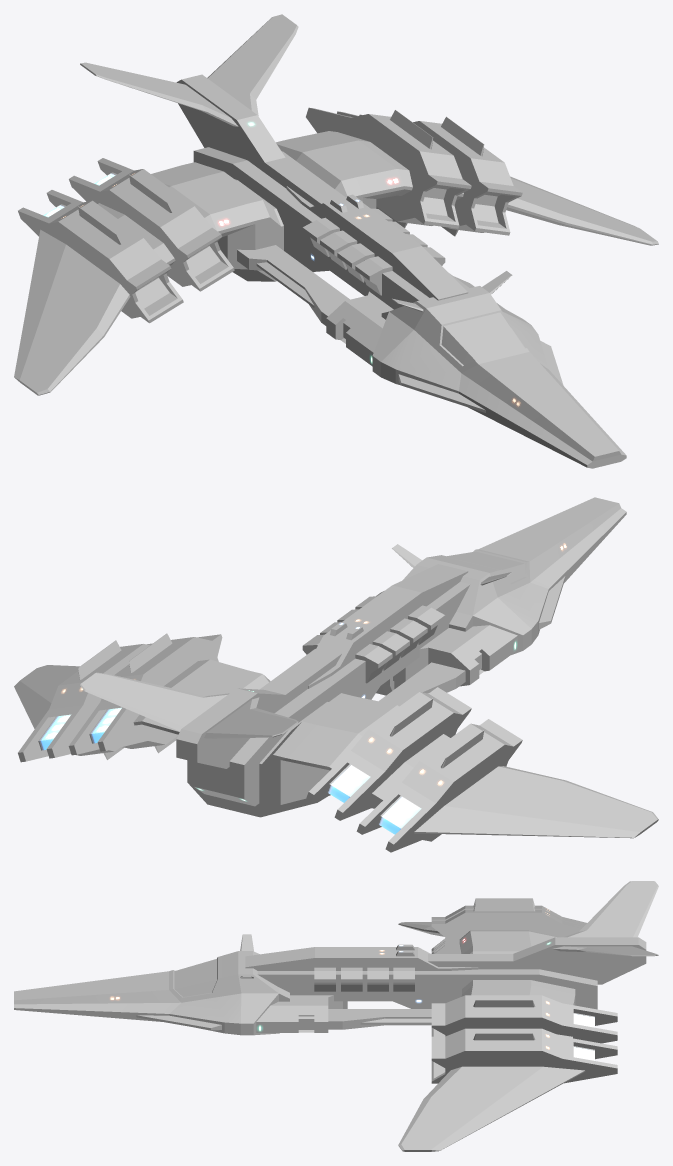
File: HeliconCorpFighterHF13Hull.fbx
3 views of the same model, one above another, from view 1: azimuth 30°, elevation 25°; view 2: azimuth 150°, elevation 25°; view 3: azimuth 270°, elevation 25° (orthographic). The views are drawn at different scales.
Parts seen in each view (by area): view 1: HeliconCorpFighterHF13Hull; view 2: HeliconCorpFighterHF13Hull; view 3: HeliconCorpFighterHF13Hull.
Boxes of the visible parts, left/top/right/bottom form: HeliconCorpFighterHF13Hull: left=14, top=14, right=658, bottom=468; HeliconCorpFighterHF13Hull: left=14, top=497, right=658, bottom=852; HeliconCorpFighterHF13Hull: left=14, top=881, right=658, bottom=1151.
Size of the model in its own units: 3488 by 858 by 4171.
